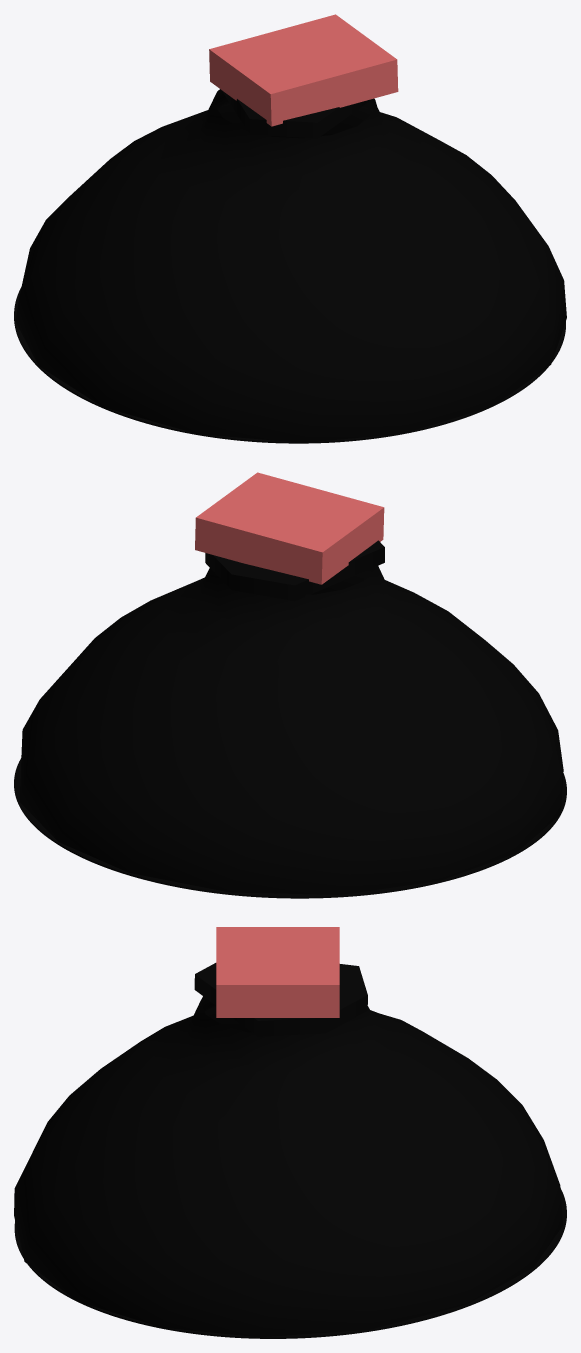
Rendered from Microwave3.glb.
The picture shows the model from 3 angles, top to bottom: view 1: azimuth 30°, elevation 25°; view 2: azimuth 150°, elevation 25°; view 3: azimuth 270°, elevation 25°; orthographic projection.
Bounding box in the file's own units: 0.6332 × 0.3525 × 0.6337.
